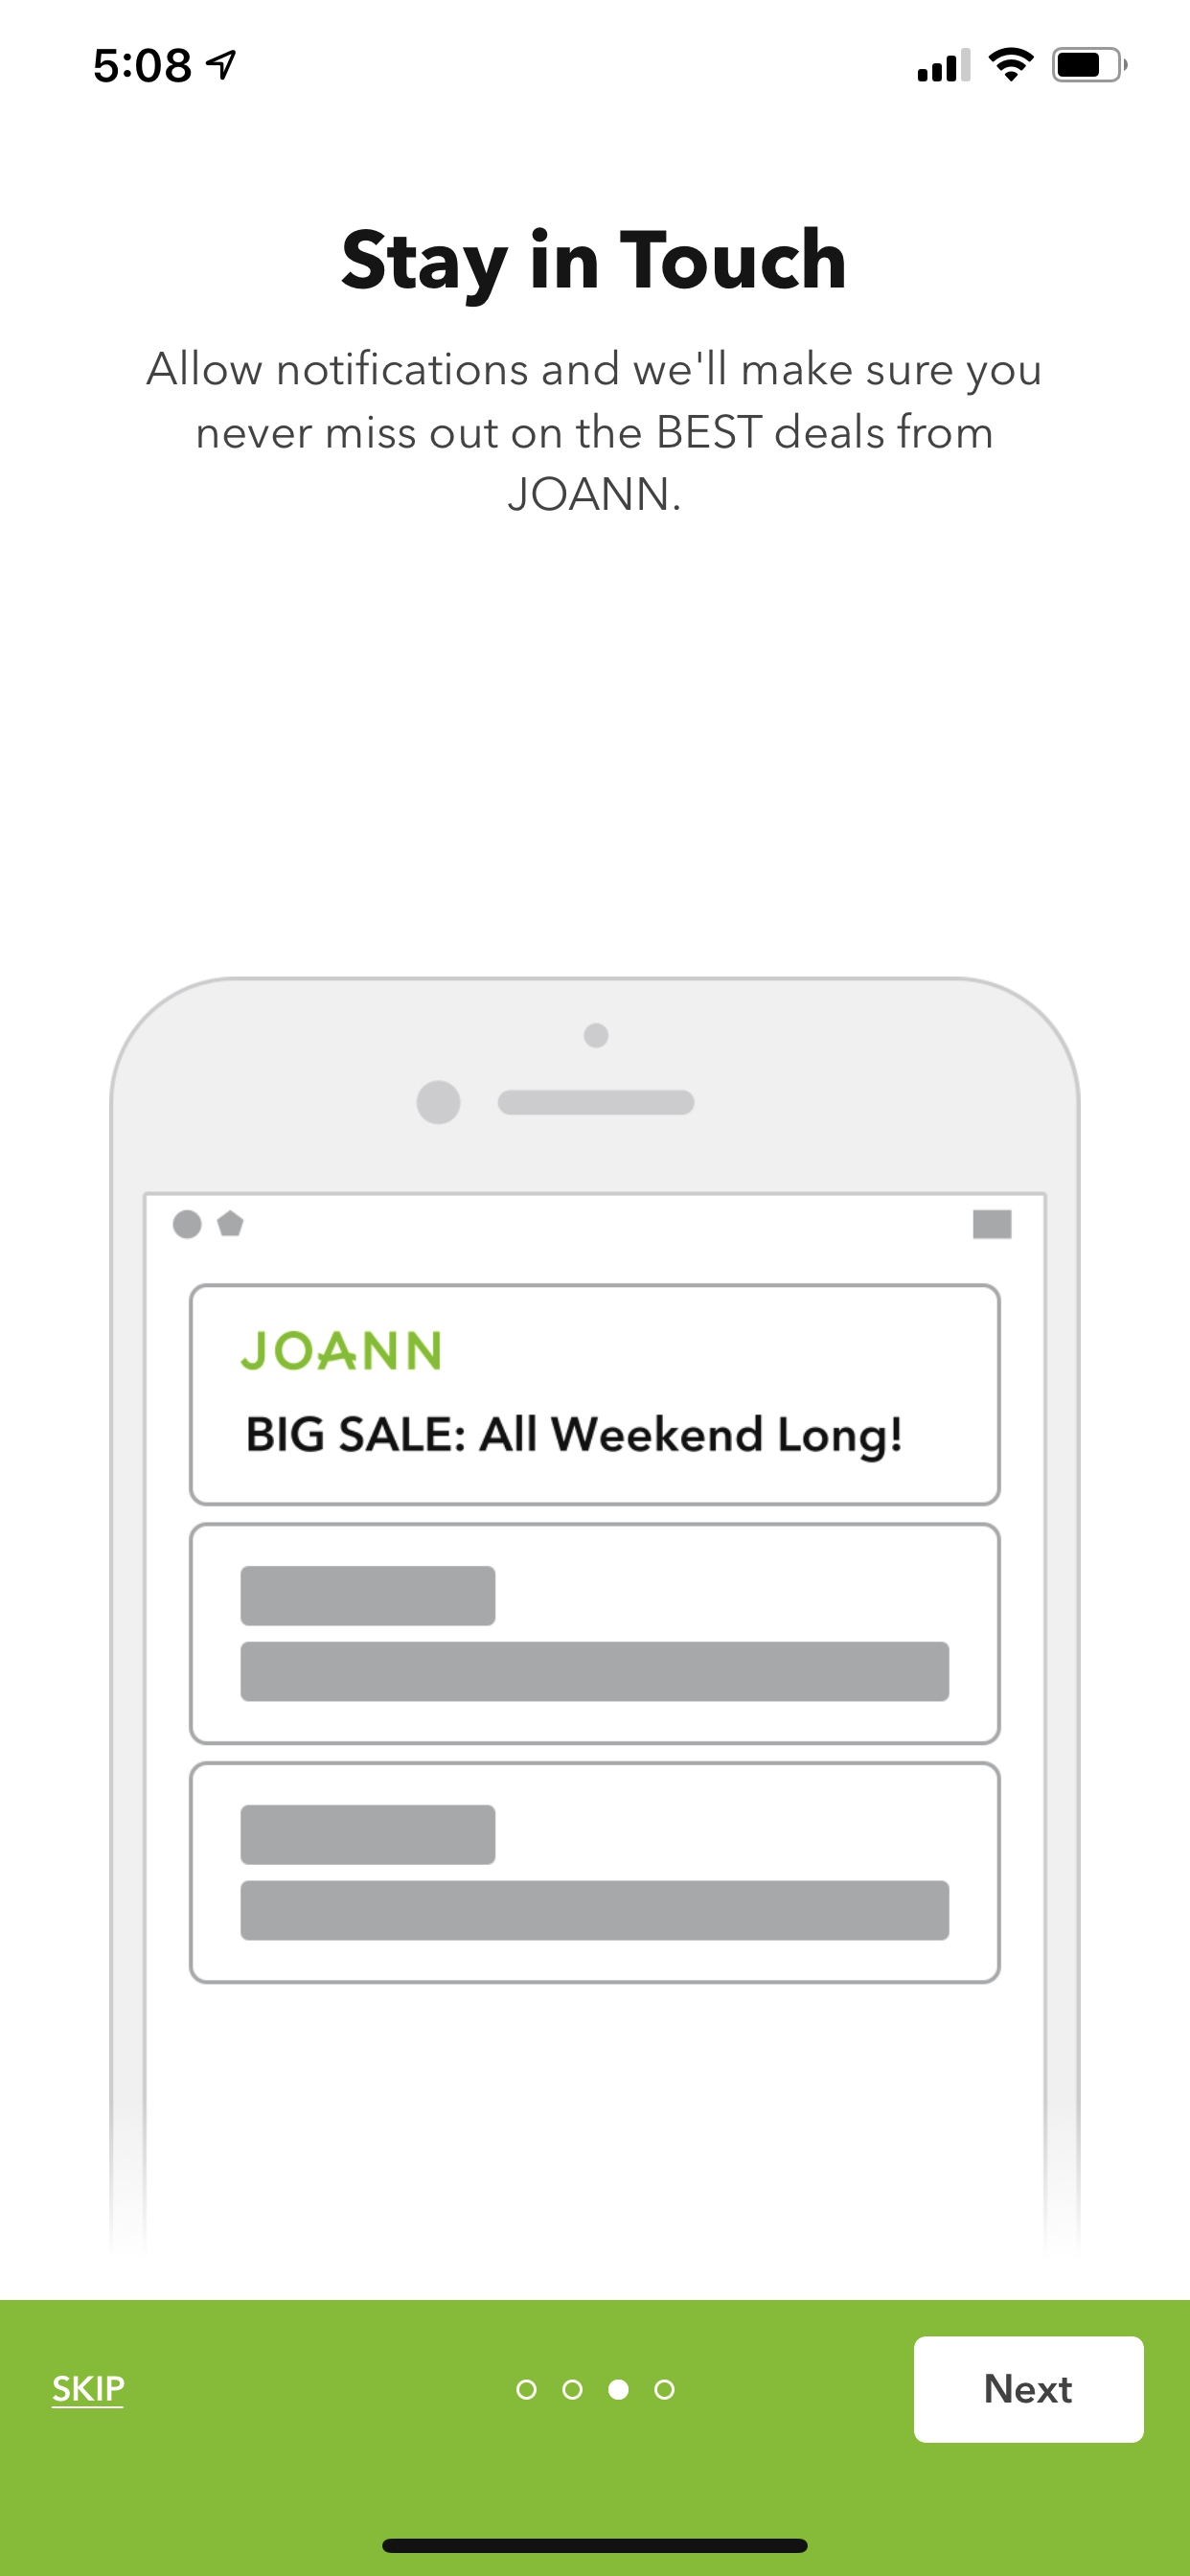Image: (108, 976, 1082, 2252)
PageIndicator: (516, 2377, 676, 2400)
Text: (146, 348, 1039, 513), (342, 227, 845, 309), (51, 2374, 125, 2408)
TextButton: (914, 2336, 1144, 2445)
UpperTaskBar: (94, 48, 1128, 84)
